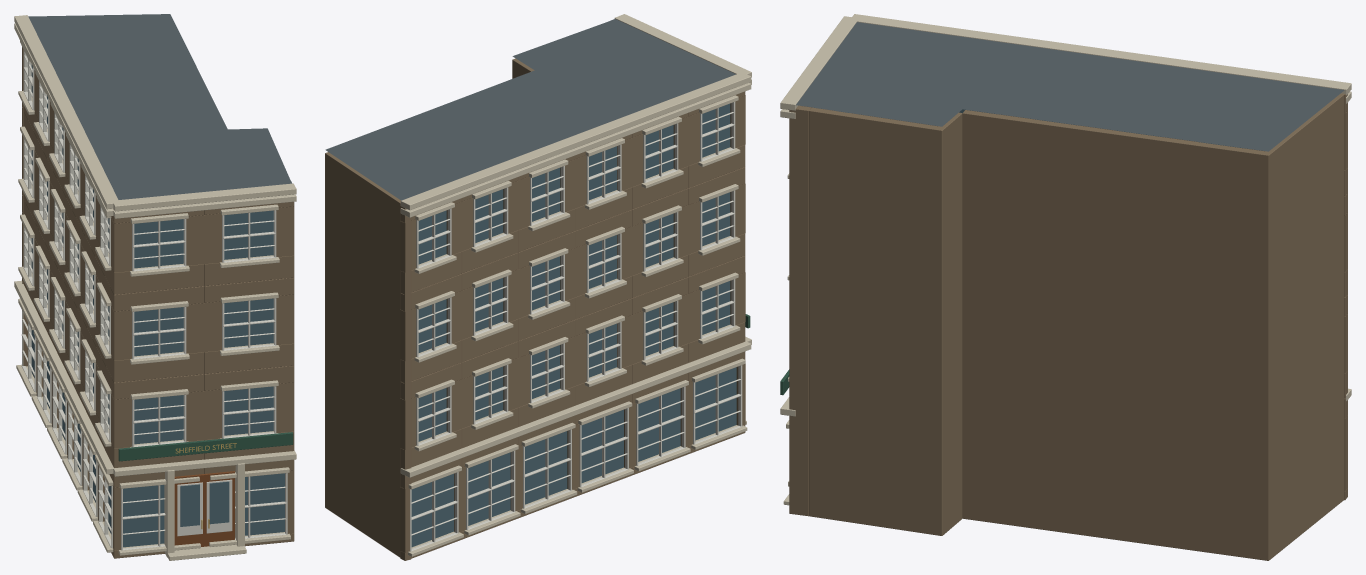
The model's file is shf-exterior-ce1d7b68076f.glb.
3 renders of one model, left to right at view 1: azimuth 30°, elevation 25°; view 2: azimuth 150°, elevation 25°; view 3: azimuth 270°, elevation 25°, orthographic. The views are drawn at different scales.
Parts seen in each view (by area): view 1: SHF.001; view 2: SHF.001; view 3: SHF.001.
Boxes of the visible parts, left/top/right/bottom form: SHF.001: left=14, top=14, right=296, bottom=560; SHF.001: left=325, top=14, right=751, bottom=560; SHF.001: left=780, top=14, right=1351, bottom=560.
Size of the model in its own units: 9.41 by 13.15 by 16.59.
